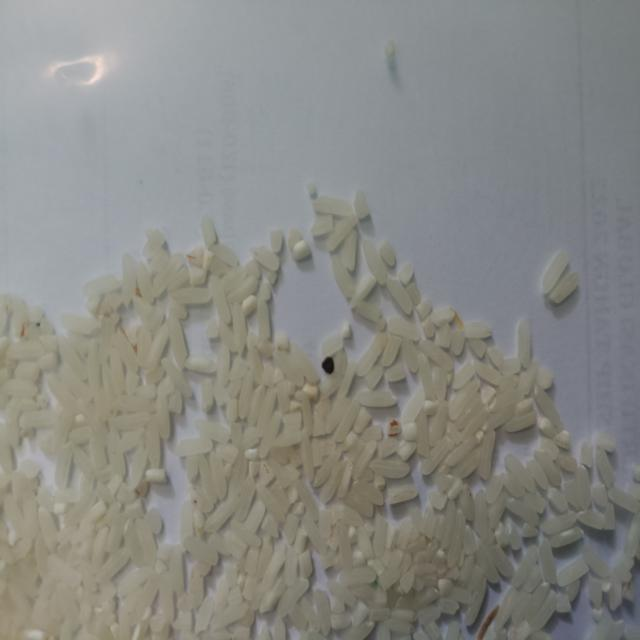Kerikil: (319, 352, 336, 376)
